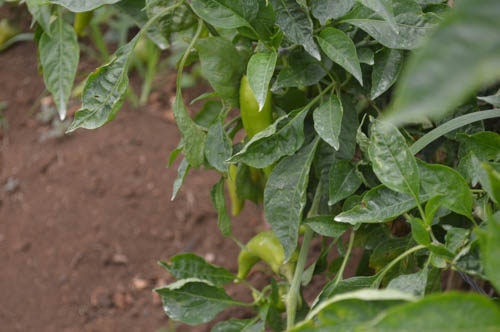ChiliPepper: (242, 77, 273, 166), (237, 234, 289, 279)
